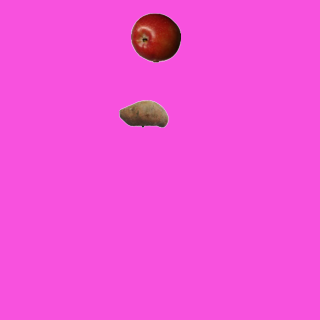Apple Braeburn: (130, 12, 180, 62)
Potato Sweet: (118, 88, 168, 138)
